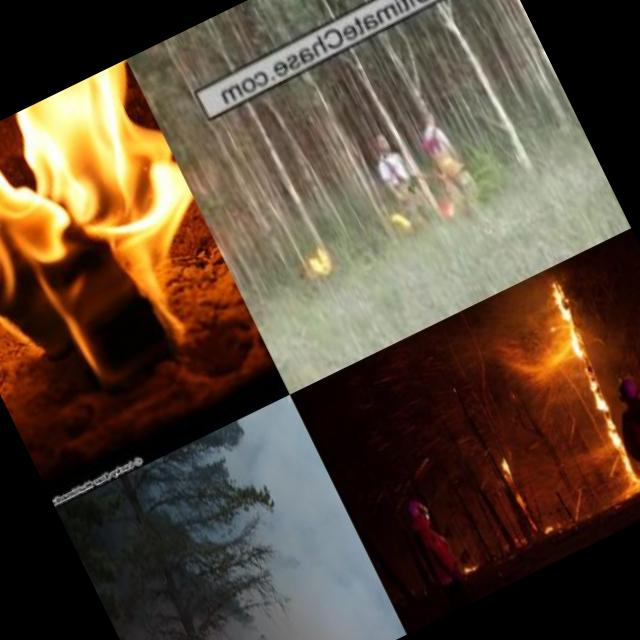fire: (0, 58, 253, 432), (530, 271, 640, 494), (300, 242, 338, 281), (383, 200, 418, 238)
smoke: (180, 394, 406, 640)
